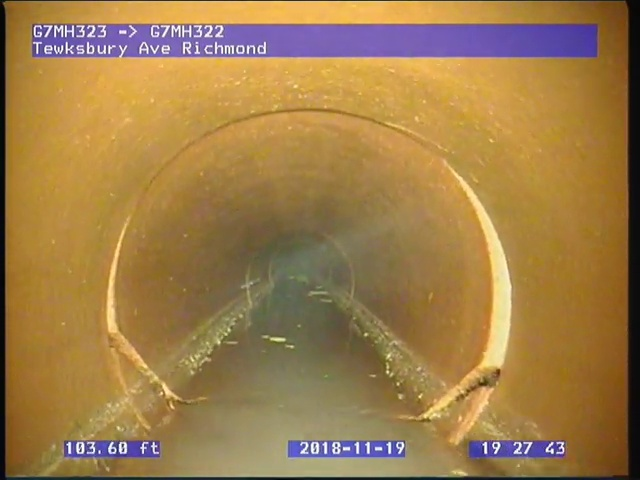crack: (394, 365, 505, 429), (145, 372, 215, 415)
